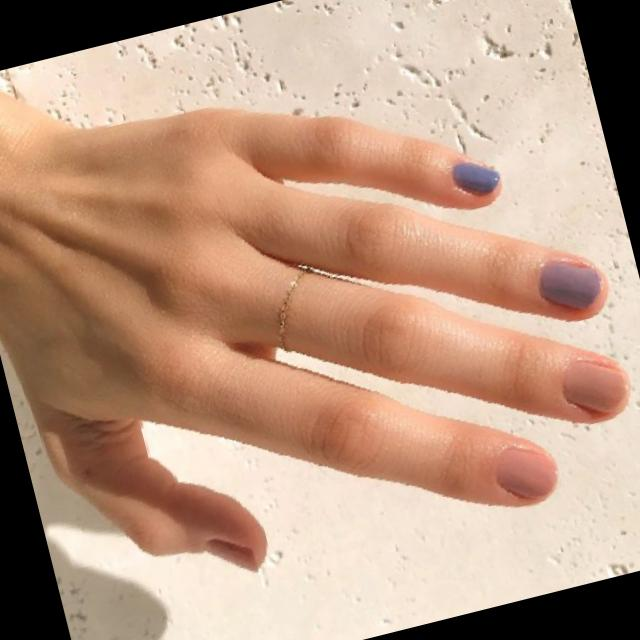Nail: (563, 359, 628, 418), (496, 445, 554, 499), (539, 260, 600, 308), (201, 539, 258, 574), (452, 161, 499, 195)
